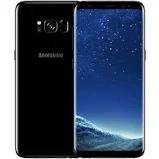samsung: (71, 1, 146, 159), (13, 1, 75, 159)
